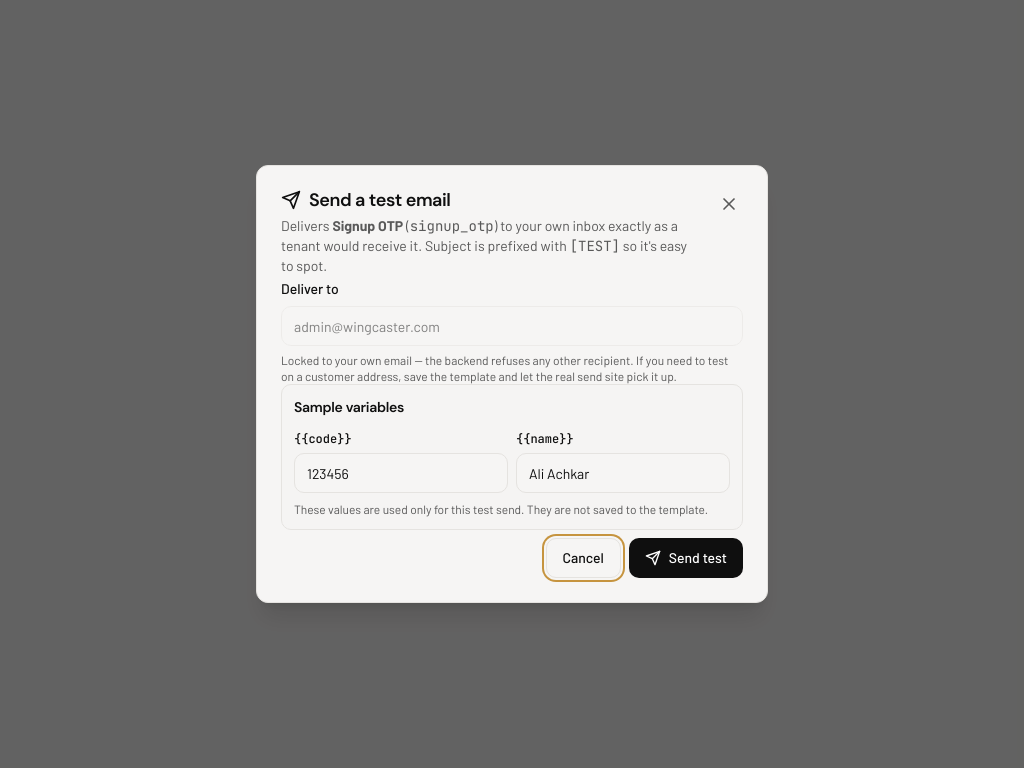
Test: sending › surfaces a success status naming the provider + message id
This screenshot has width=1024, height=768.
Step 1. Click the button "Send test" → click(686, 558), box [629,538,743,578]
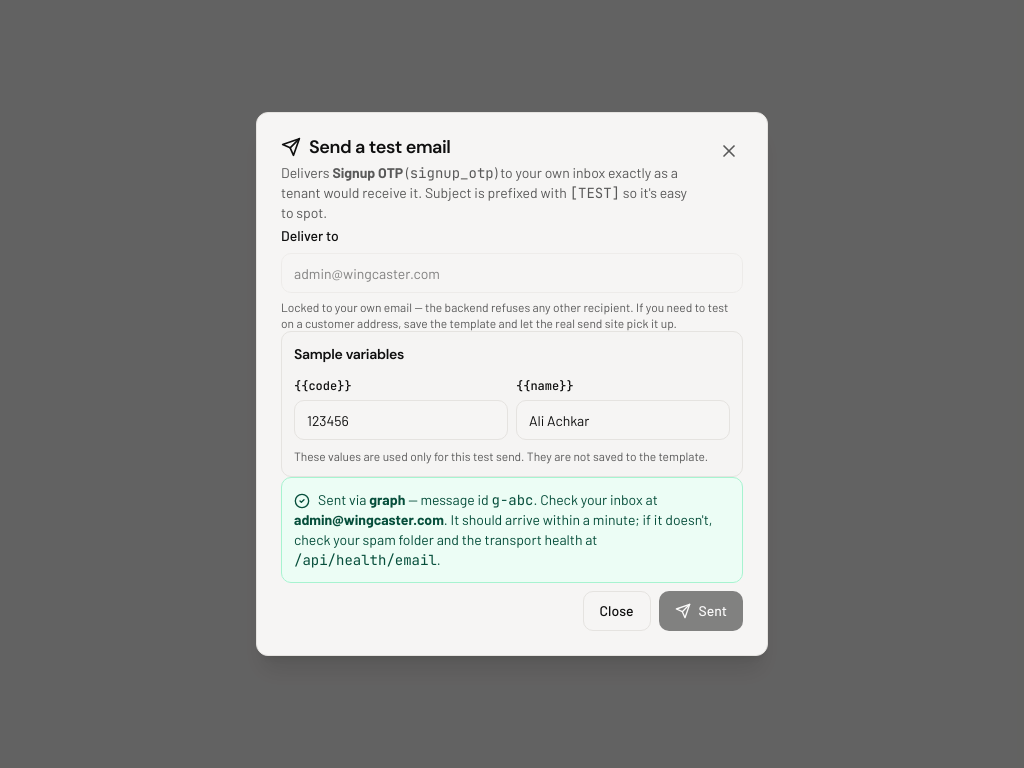
Result: the message shows "graph" at [369,491,405,508]
Result: the message shows "g-abc" at [492,491,534,509]
Result: the button "Sent" is disabled at [658,591,743,631]
